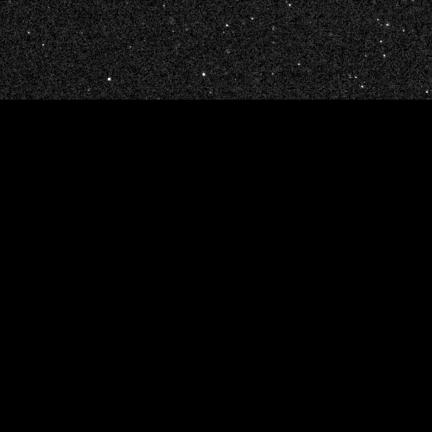blob: (108, 78, 112, 81), (203, 73, 206, 76)
